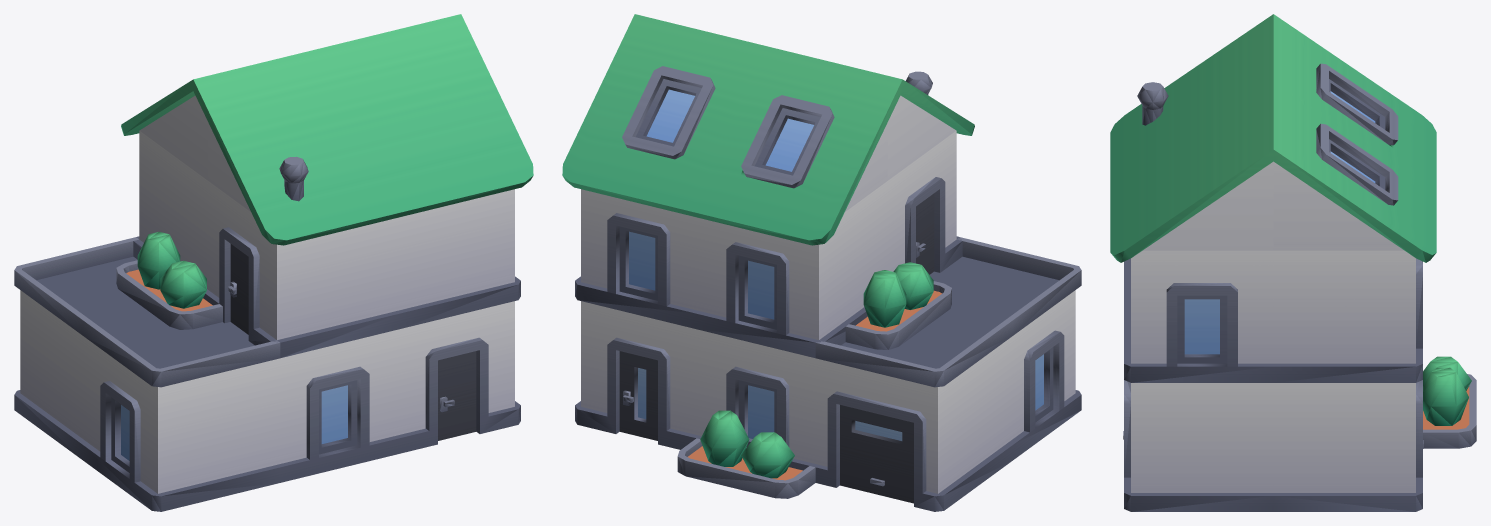
The model's file is ks_house_o.fbx.
The picture shows the model from 3 angles, left to right: view 1: azimuth 30°, elevation 25°; view 2: azimuth 150°, elevation 25°; view 3: azimuth 270°, elevation 25°; orthographic projection. The views are drawn at different scales.
Parts seen in each view (by area): view 1: ks_house_o_LOD0; view 2: ks_house_o_LOD0; view 3: ks_house_o_LOD0.
Part boxes in pixels (x1,y1,x2,y2): ks_house_o_LOD0: [14, 14, 533, 511]; ks_house_o_LOD0: [562, 14, 1081, 511]; ks_house_o_LOD0: [1110, 14, 1476, 511].
Size of what is drawn, in the model's own units: 10.8 by 9.67 by 8.74.
